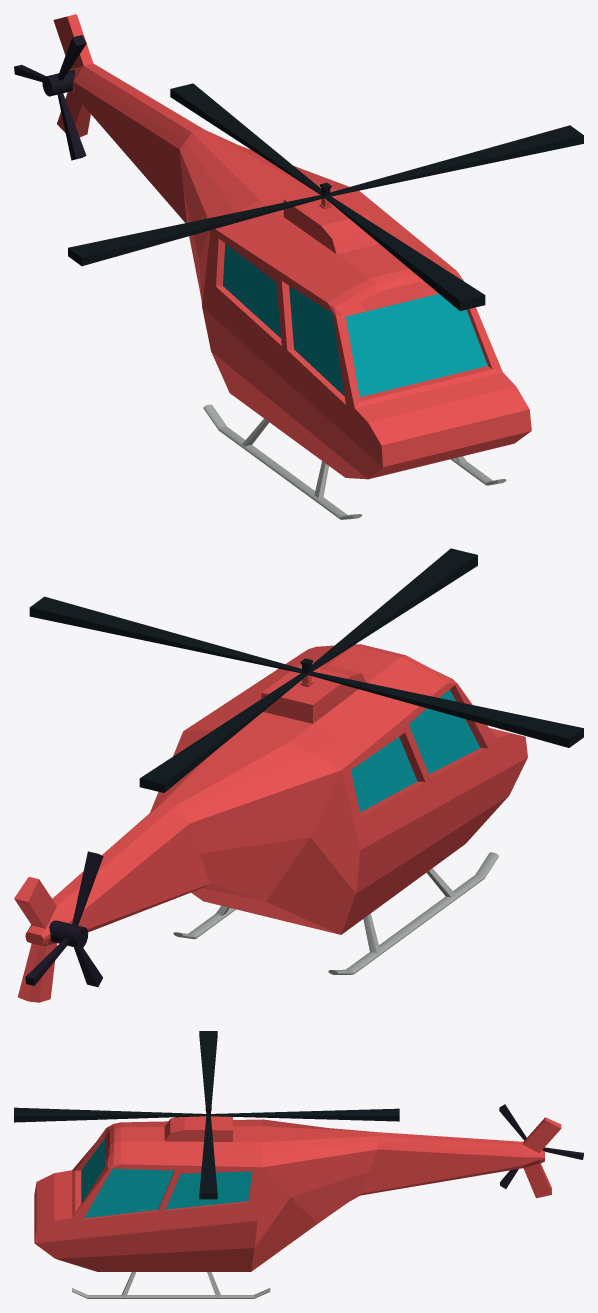
Rendered from HELICOPTERO.fbx.
3 renders of one model, top to bottom at view 1: azimuth 30°, elevation 25°; view 2: azimuth 150°, elevation 25°; view 3: azimuth 270°, elevation 25°, orthographic. The views are drawn at different scales.
Parts seen in each view (by area): view 1: helicoptero_LOD0; view 2: helicoptero_LOD0; view 3: helicoptero_LOD0.
Part boxes in pixels (bbox=[...]): helicoptero_LOD0: bbox=[14, 14, 583, 519]; helicoptero_LOD0: bbox=[14, 548, 583, 1002]; helicoptero_LOD0: bbox=[14, 1031, 583, 1298].
Size of what is drawn, in the model's own units: 1195 by 573 by 1772.
